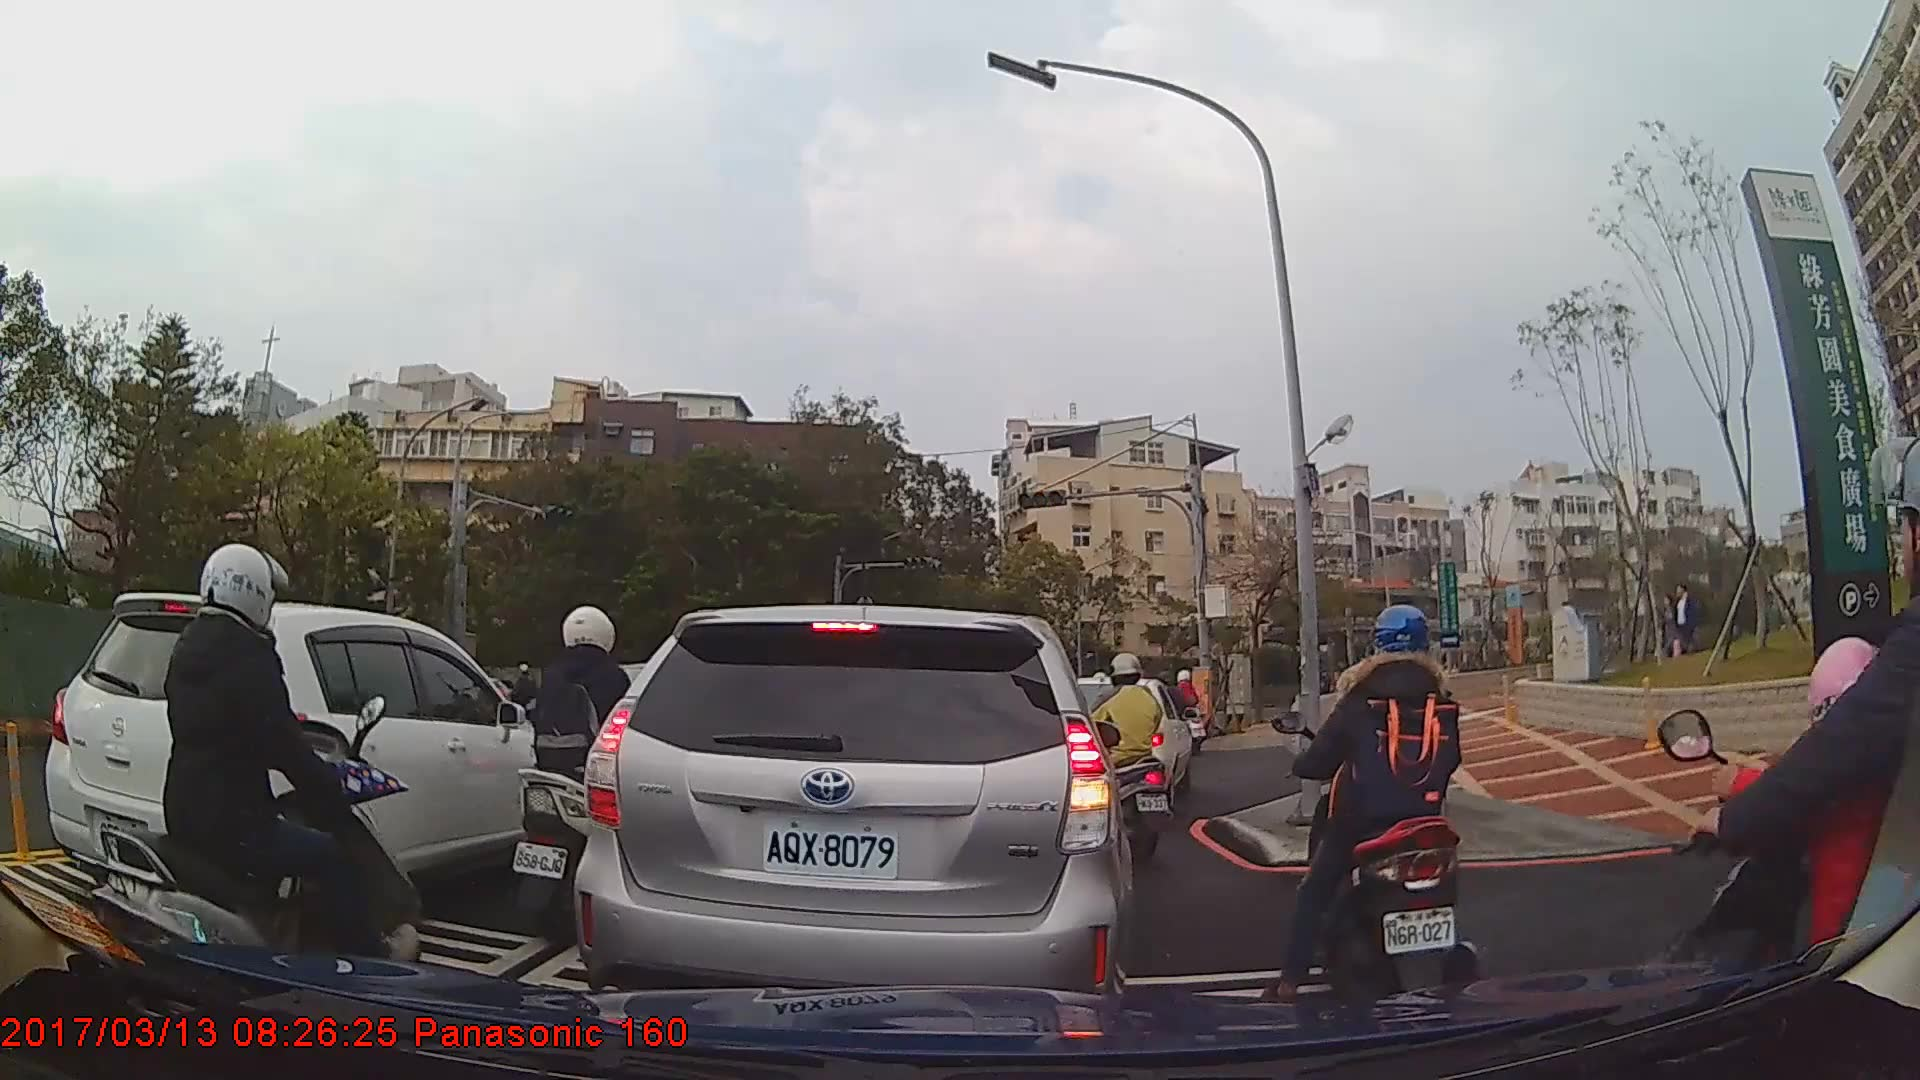pedestrian: (1646, 583, 1689, 676), (1662, 579, 1708, 662)
rider: (1657, 434, 1920, 1069), (93, 541, 430, 1001), (1258, 600, 1476, 1010), (504, 605, 677, 953), (1071, 649, 1175, 866), (1167, 665, 1212, 757)
vehicle: (571, 601, 1136, 1029), (44, 591, 568, 933)
